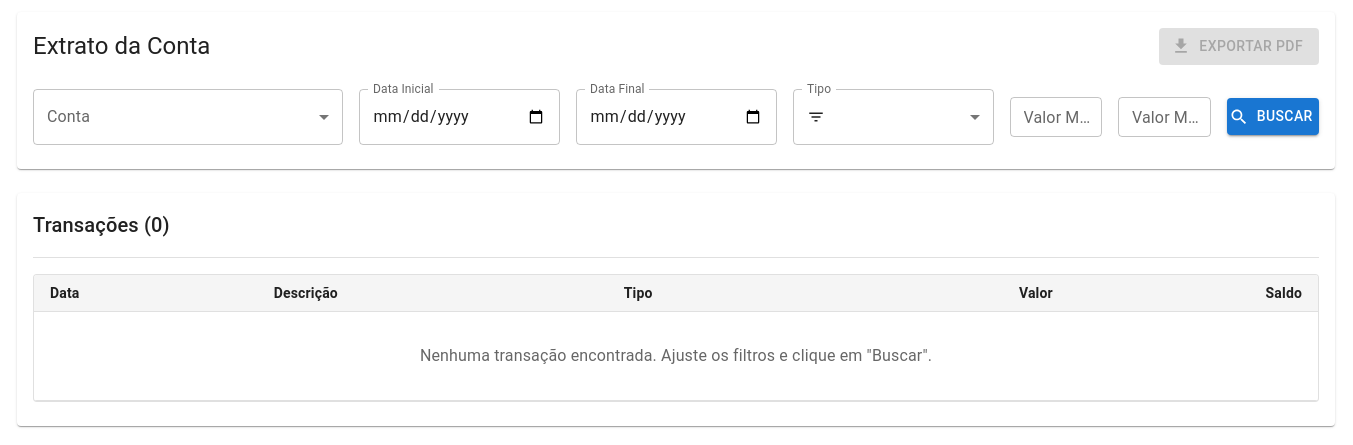
Scenario: permite selecionar tipo de transacao no filtro
Press the mouse on the 2nd dropdown named "Tipo" at {"x": 911, "y": 116}, box [828,88,994,144]
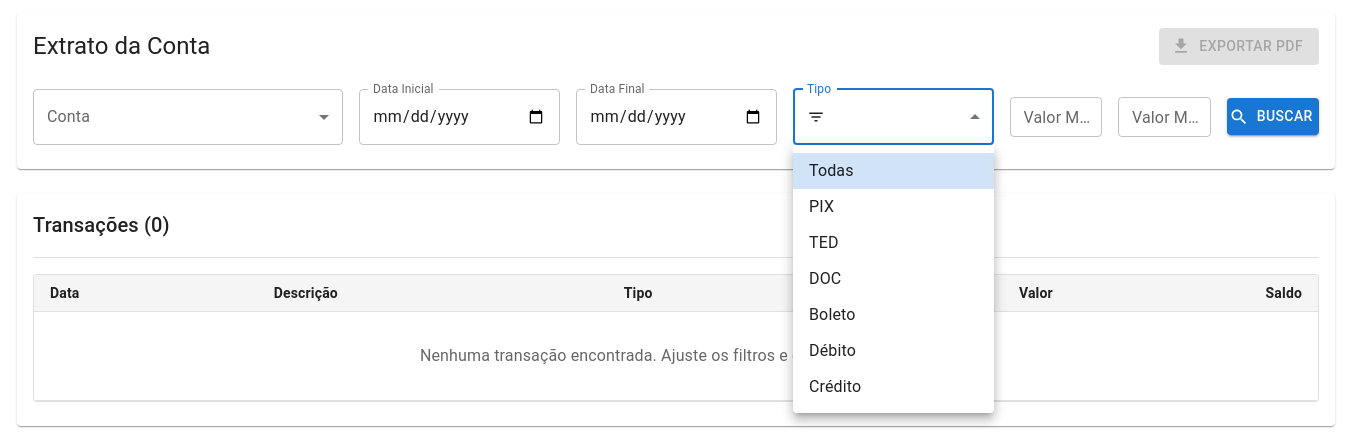
Expected: the option "PIX" is shown, [809,197,834,216]
